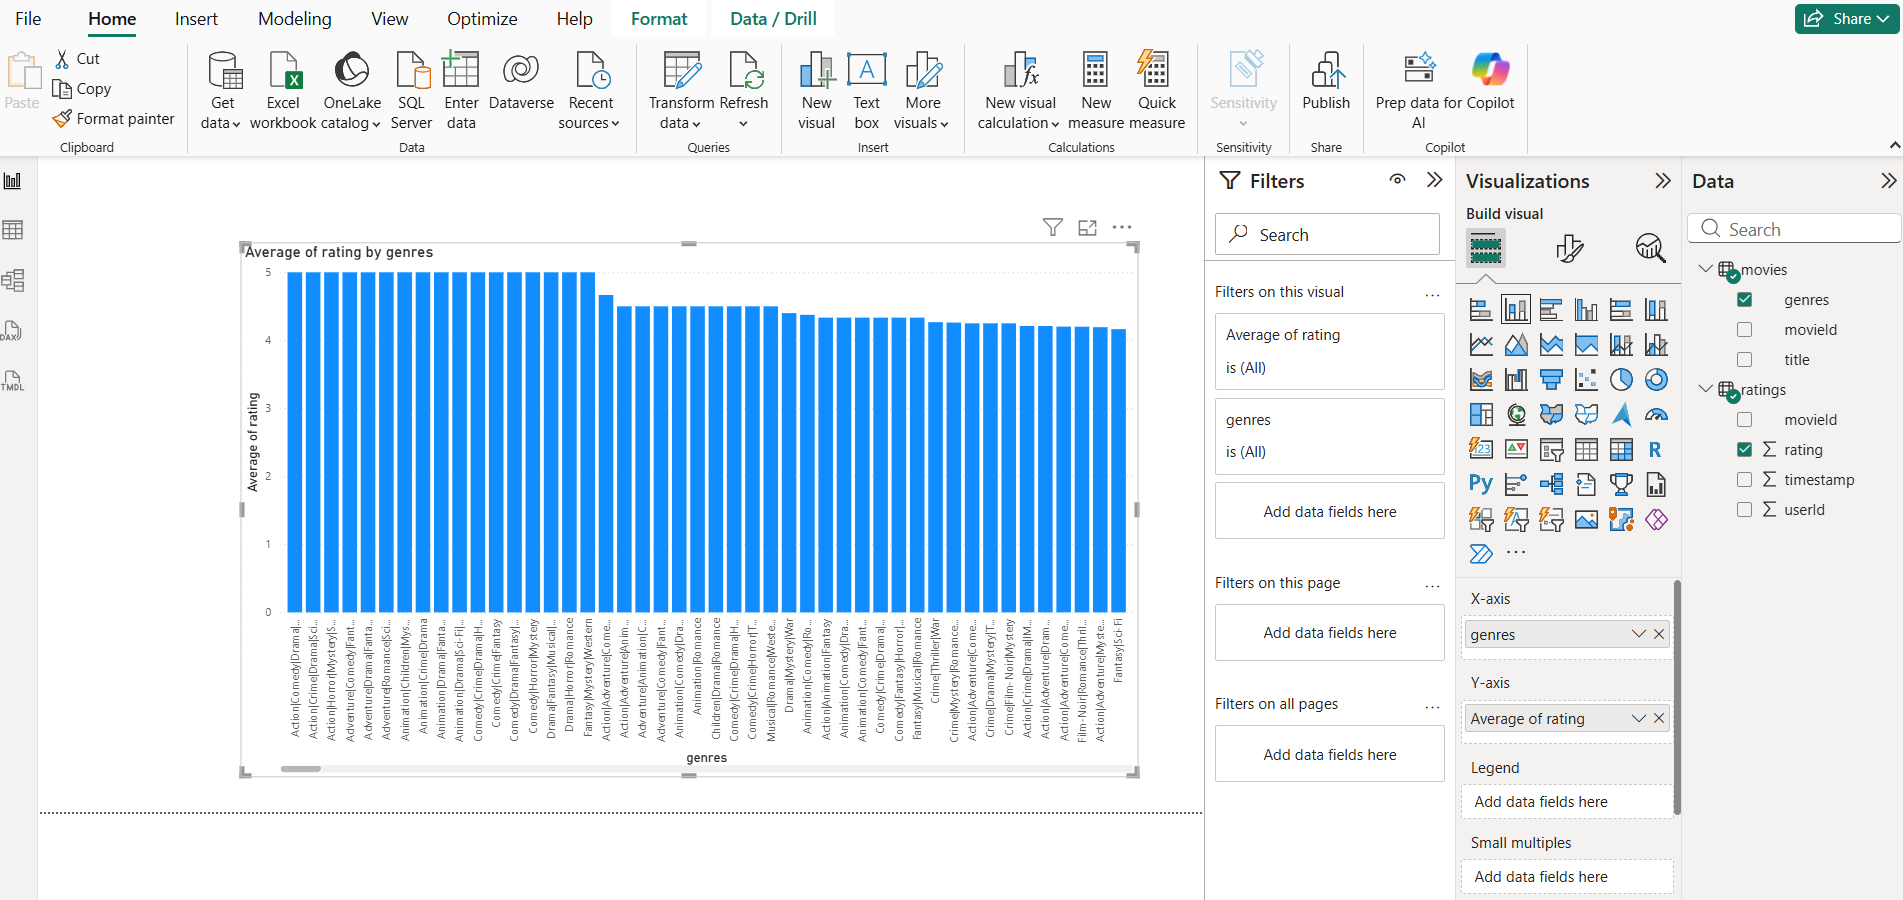

The dashboard page shown, as its layout file describes it:
{"tool":"powerbi","page":{"name":"Page 2","canvas":[1280,720],"ordinal":1},"visuals":[{"type":"columnChart","fields":{"Category":["movies.genres"],"Y":["Avg(ratings.rating)"]},"box":[222.3,94.7,985.3,587.3],"z":0}]}

Visuals, with their boxes on the page's 1280x720 design canvas (x1, y1, x2, y2). These are canvas units, not pixel positions in the 1903x900 screenshot, which may show the page scaled, cropped or inside an application window:
columnChart - movies.genres x Avg(ratings.rating): bbox=[222, 95, 1208, 682]
